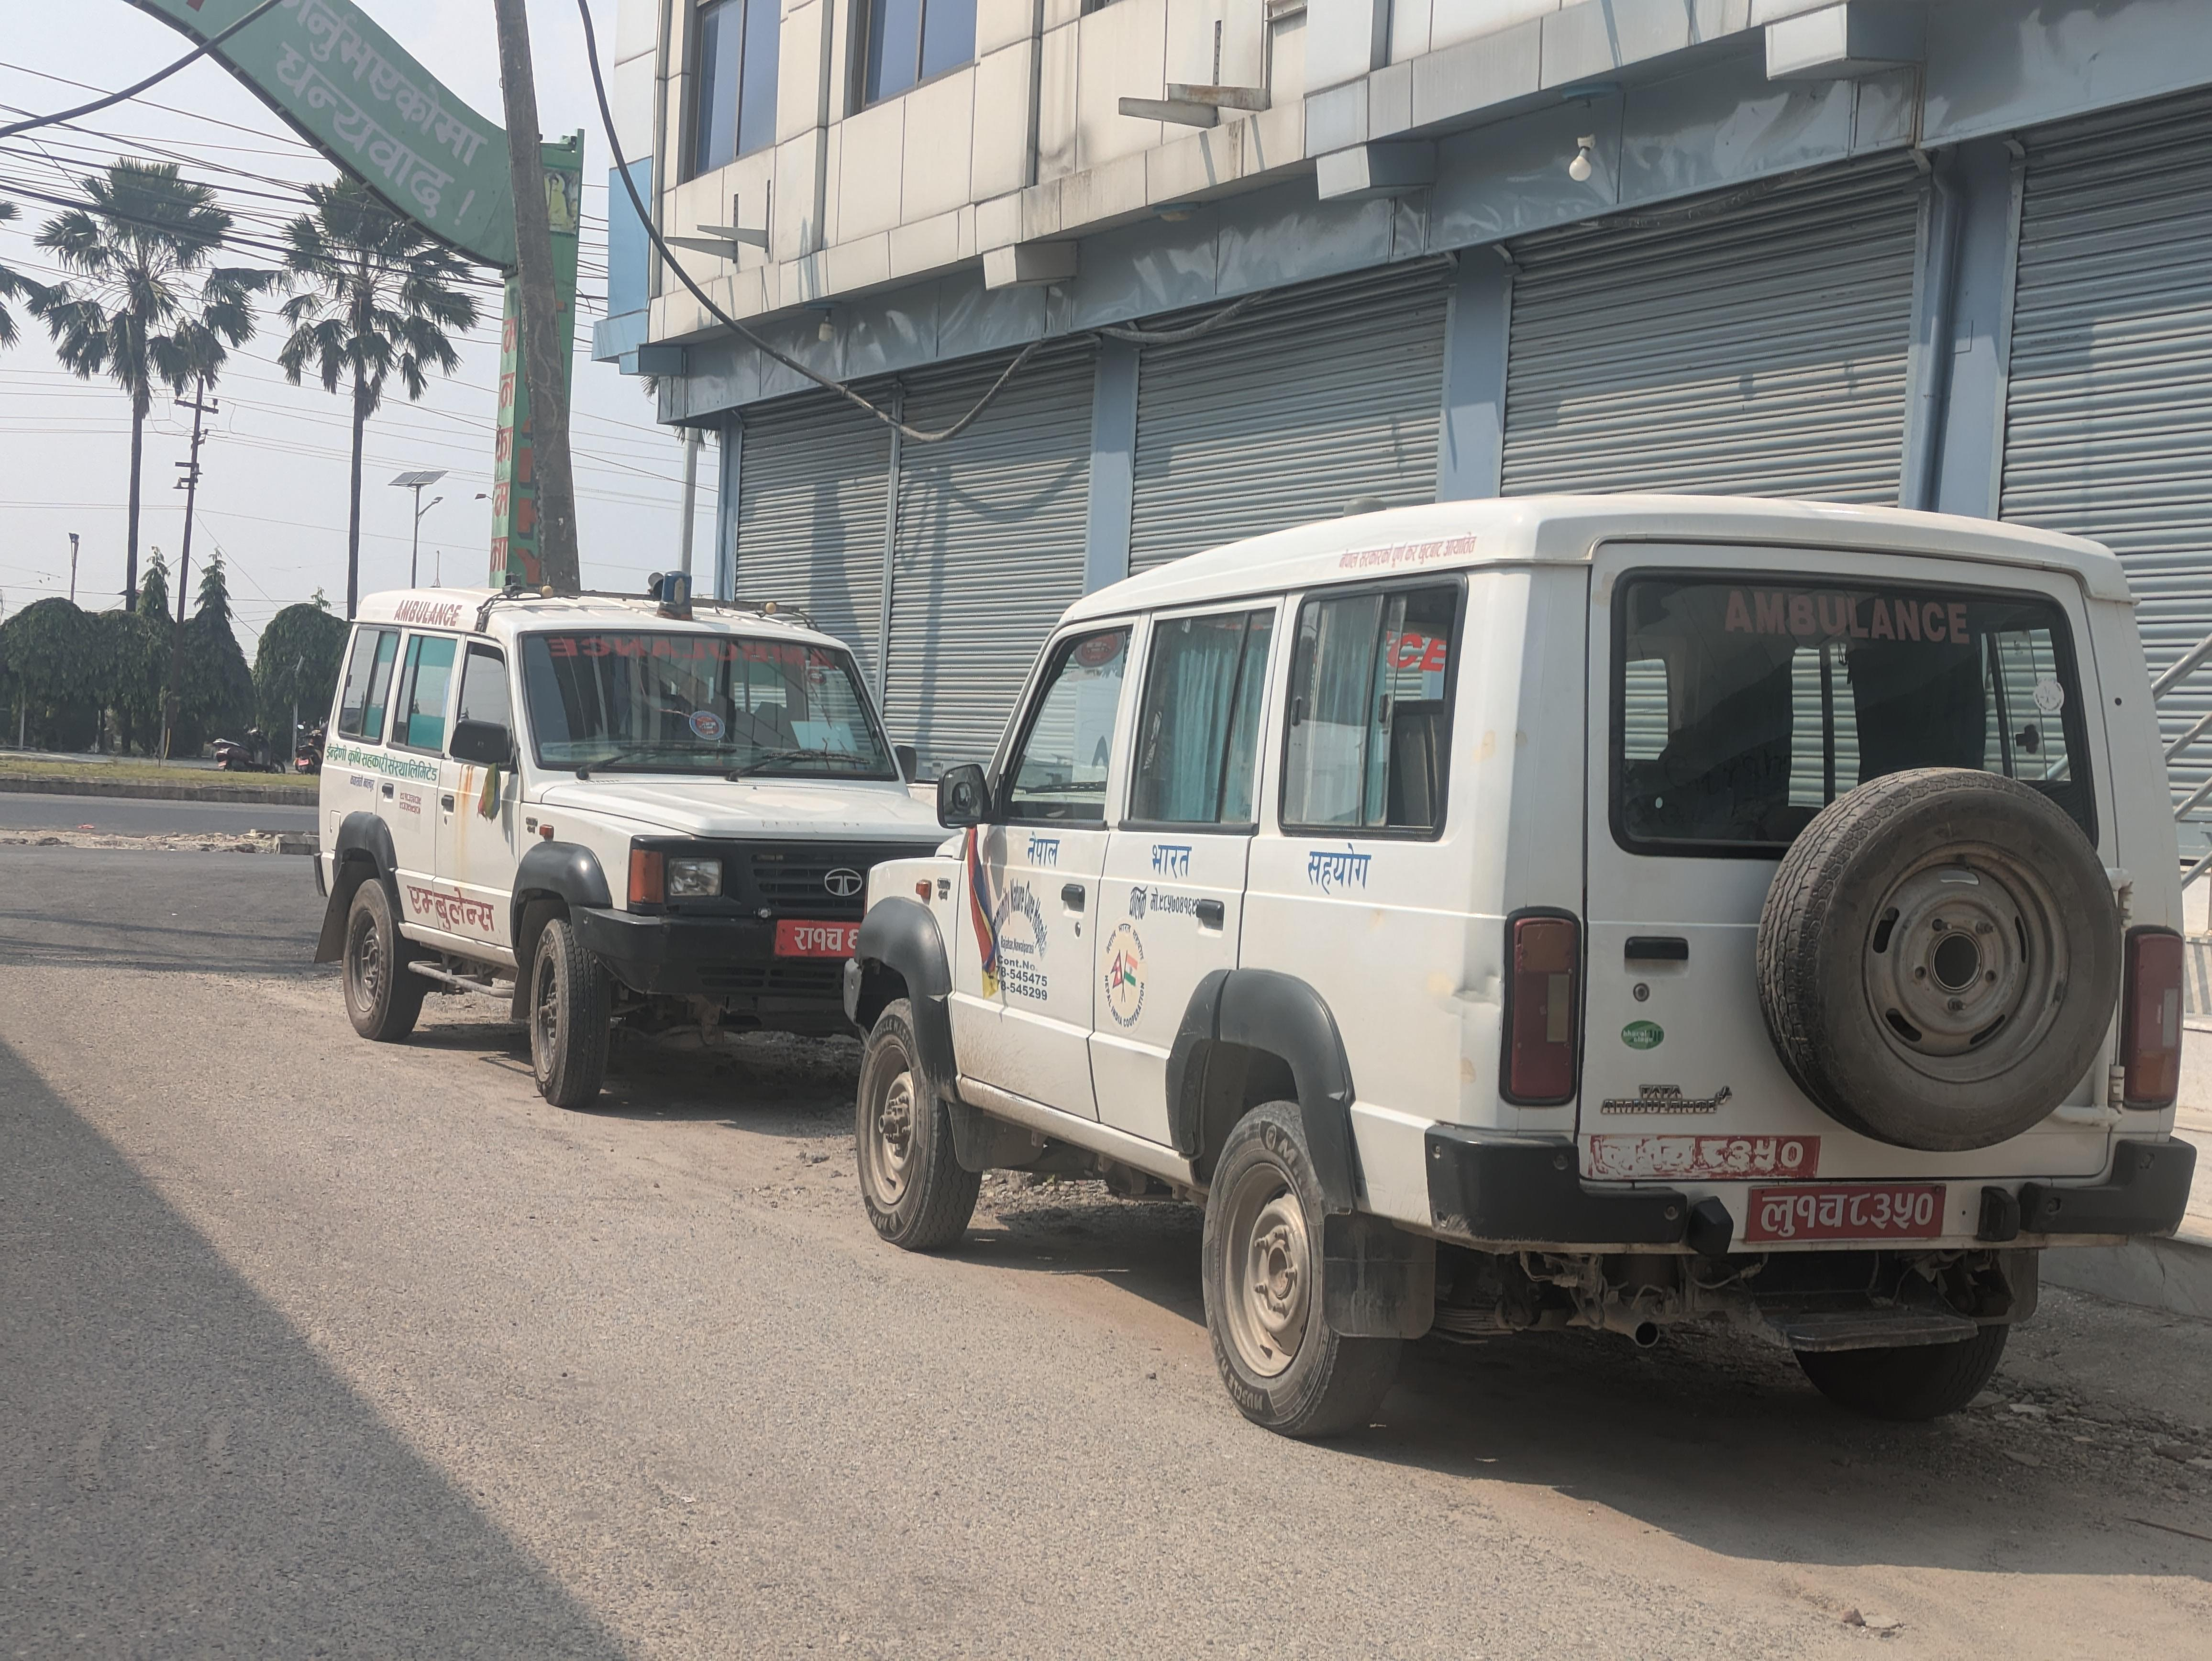ambulance: (825, 482, 2212, 1462), (302, 560, 1021, 1141)
